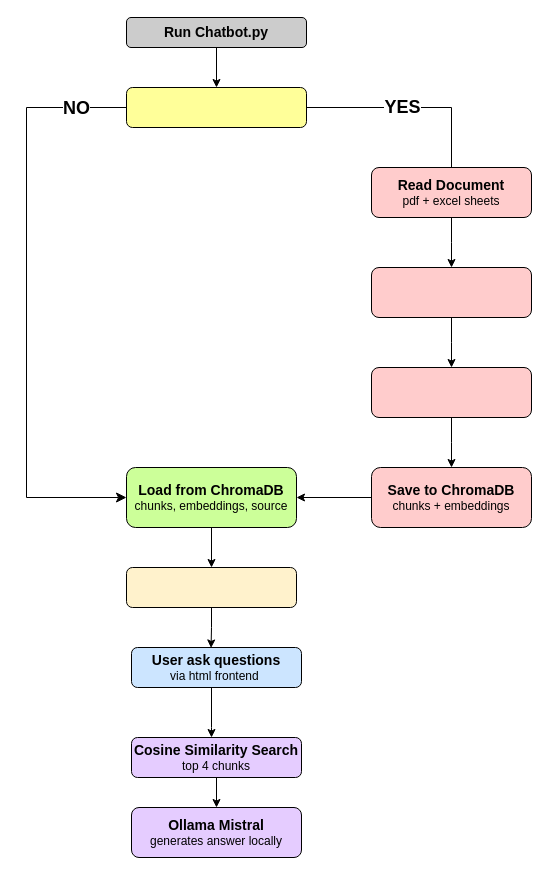
This 549x875 diagram has some shape labels left out. The centre of each missing label's shape, as x and y in pixels:
"ChromaDB has Data ?" belongs at (x=216, y=107).
"Create Embeddings HuggingFace Models" belongs at (x=451, y=392).
"Flask Server Ready" belongs at (x=211, y=587).
"Split into chunks 200 words + 50 overalap" belongs at (x=451, y=292).
